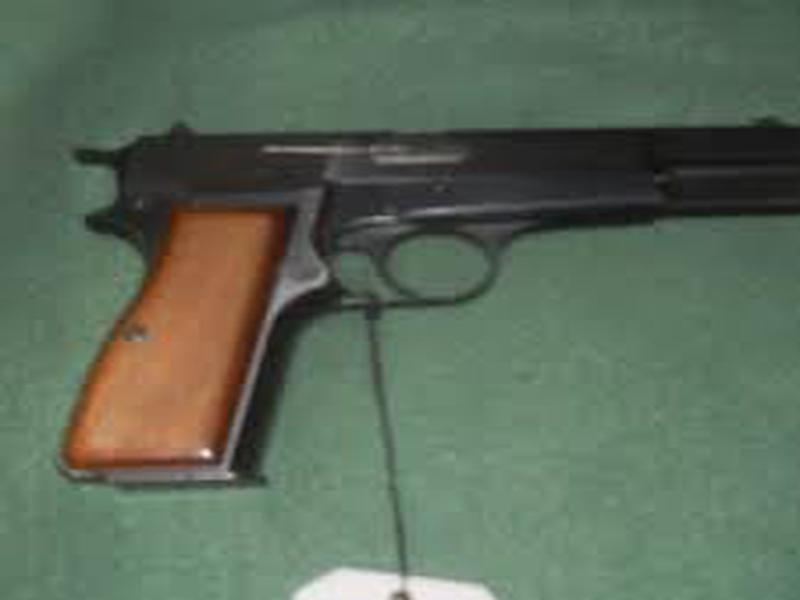gun: (66, 119, 800, 484)
